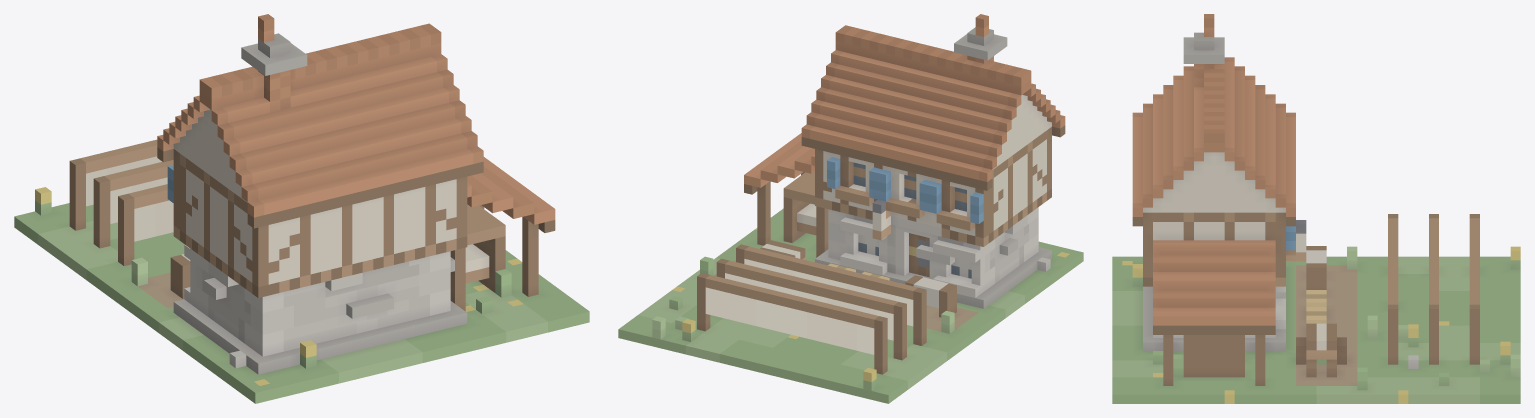
Rendered from weaver_linen.glb.
The picture shows the model from 3 angles, left to right: view 1: azimuth 30°, elevation 25°; view 2: azimuth 150°, elevation 25°; view 3: azimuth 270°, elevation 25°; orthographic projection. The views are drawn at different scales.
Visible parts, largest first — view 1: weaver_linen; view 2: weaver_linen; view 3: weaver_linen.
Boxes of the visible parts, box(x1,y1,x2,y2) form: weaver_linen: box(14, 14, 589, 403); weaver_linen: box(618, 14, 1083, 403); weaver_linen: box(1112, 14, 1520, 403).
Bounding box in the file's own units: 4 × 3.75 × 5.
